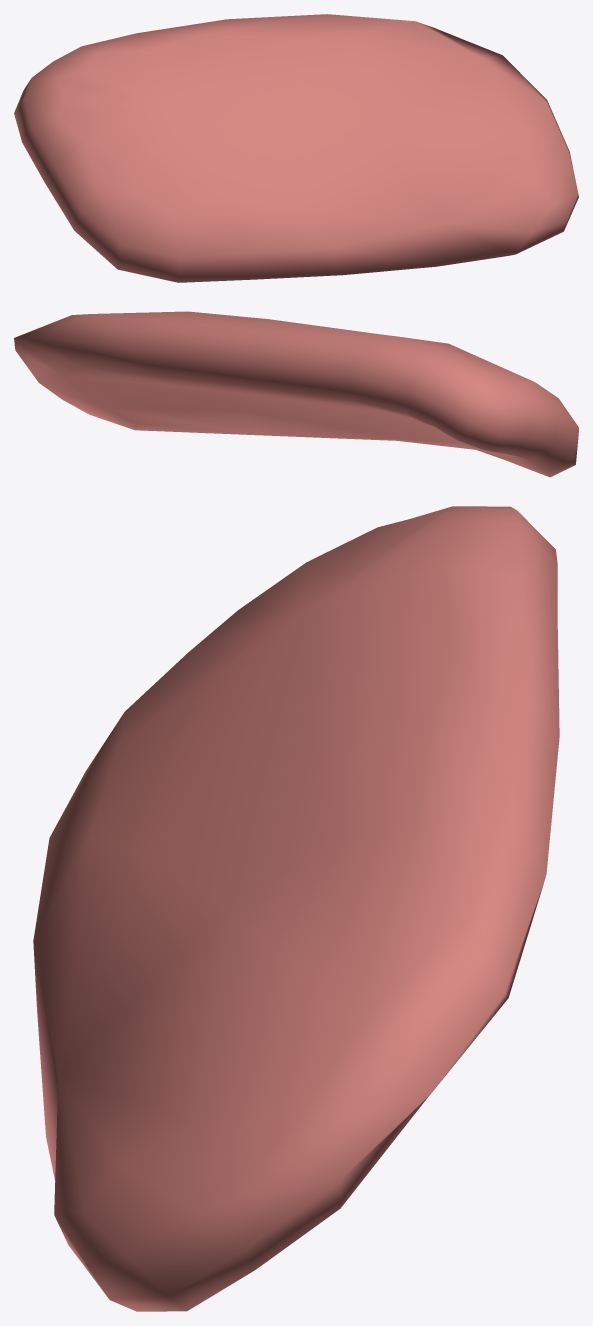
3 renders of one model, top to bottom at view 1: azimuth 30°, elevation 25°; view 2: azimuth 150°, elevation 25°; view 3: azimuth 270°, elevation 25°, orthographic. The views are drawn at different scales.
Parts seen in each view (by area): view 1: ZA_3481213d13ca0d47; view 2: ZA_3481213d13ca0d47; view 3: ZA_3481213d13ca0d47.
Part boxes in pixels (x1=…): ZA_3481213d13ca0d47: x1=14, y1=14, x2=578, y2=282; ZA_3481213d13ca0d47: x1=14, y1=311, x2=578, y2=477; ZA_3481213d13ca0d47: x1=33, y1=506, x2=559, y2=1311.
Bounding box in the file's own units: 0.00384 × 0.0016 × 0.00175.
